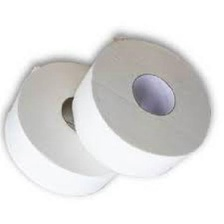tissue: (64, 32, 217, 186), (0, 52, 127, 203)
